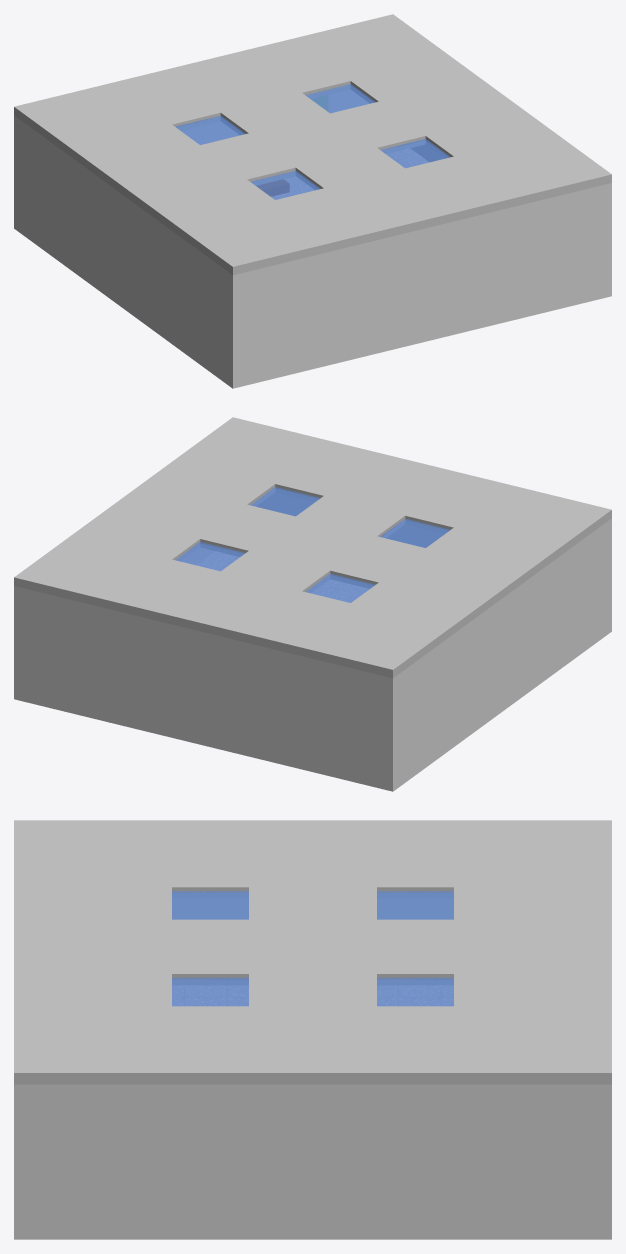
The model's file is Menu.fbx.
3 renders of one model, top to bottom at view 1: azimuth 30°, elevation 25°; view 2: azimuth 150°, elevation 25°; view 3: azimuth 270°, elevation 25°, orthographic. The views are drawn at different scales.
Visible parts, largest first — view 1: Group2, Group1, Group4, Group3, Group5, Group6; view 2: Group2, Group1, Group3, Group6, Group4, Group5; view 3: Group2, Group1, Group3, Group4, Group5, Group6.
Boxes of the visible parts, <box> form: Group2: <box>14,14,611,275</box>; Group1: <box>14,90,611,388</box>; Group4: <box>380,139,450,168</box>; Group3: <box>305,84,375,113</box>; Group5: <box>175,115,245,144</box>; Group6: <box>250,170,320,199</box>; Group2: <box>14,417,611,678</box>; Group1: <box>14,493,611,791</box>; Group3: <box>175,542,245,571</box>; Group6: <box>380,518,450,547</box>; Group4: <box>250,487,320,516</box>; Group5: <box>305,573,375,602</box>; Group2: <box>14,820,611,1084</box>; Group1: <box>14,899,611,1239</box>; Group3: <box>377,977,453,1006</box>; Group4: <box>172,977,248,1006</box>; Group5: <box>377,891,453,919</box>; Group6: <box>172,891,248,919</box>.
Size of the model in its own units: 1400 by 430 by 1400.
